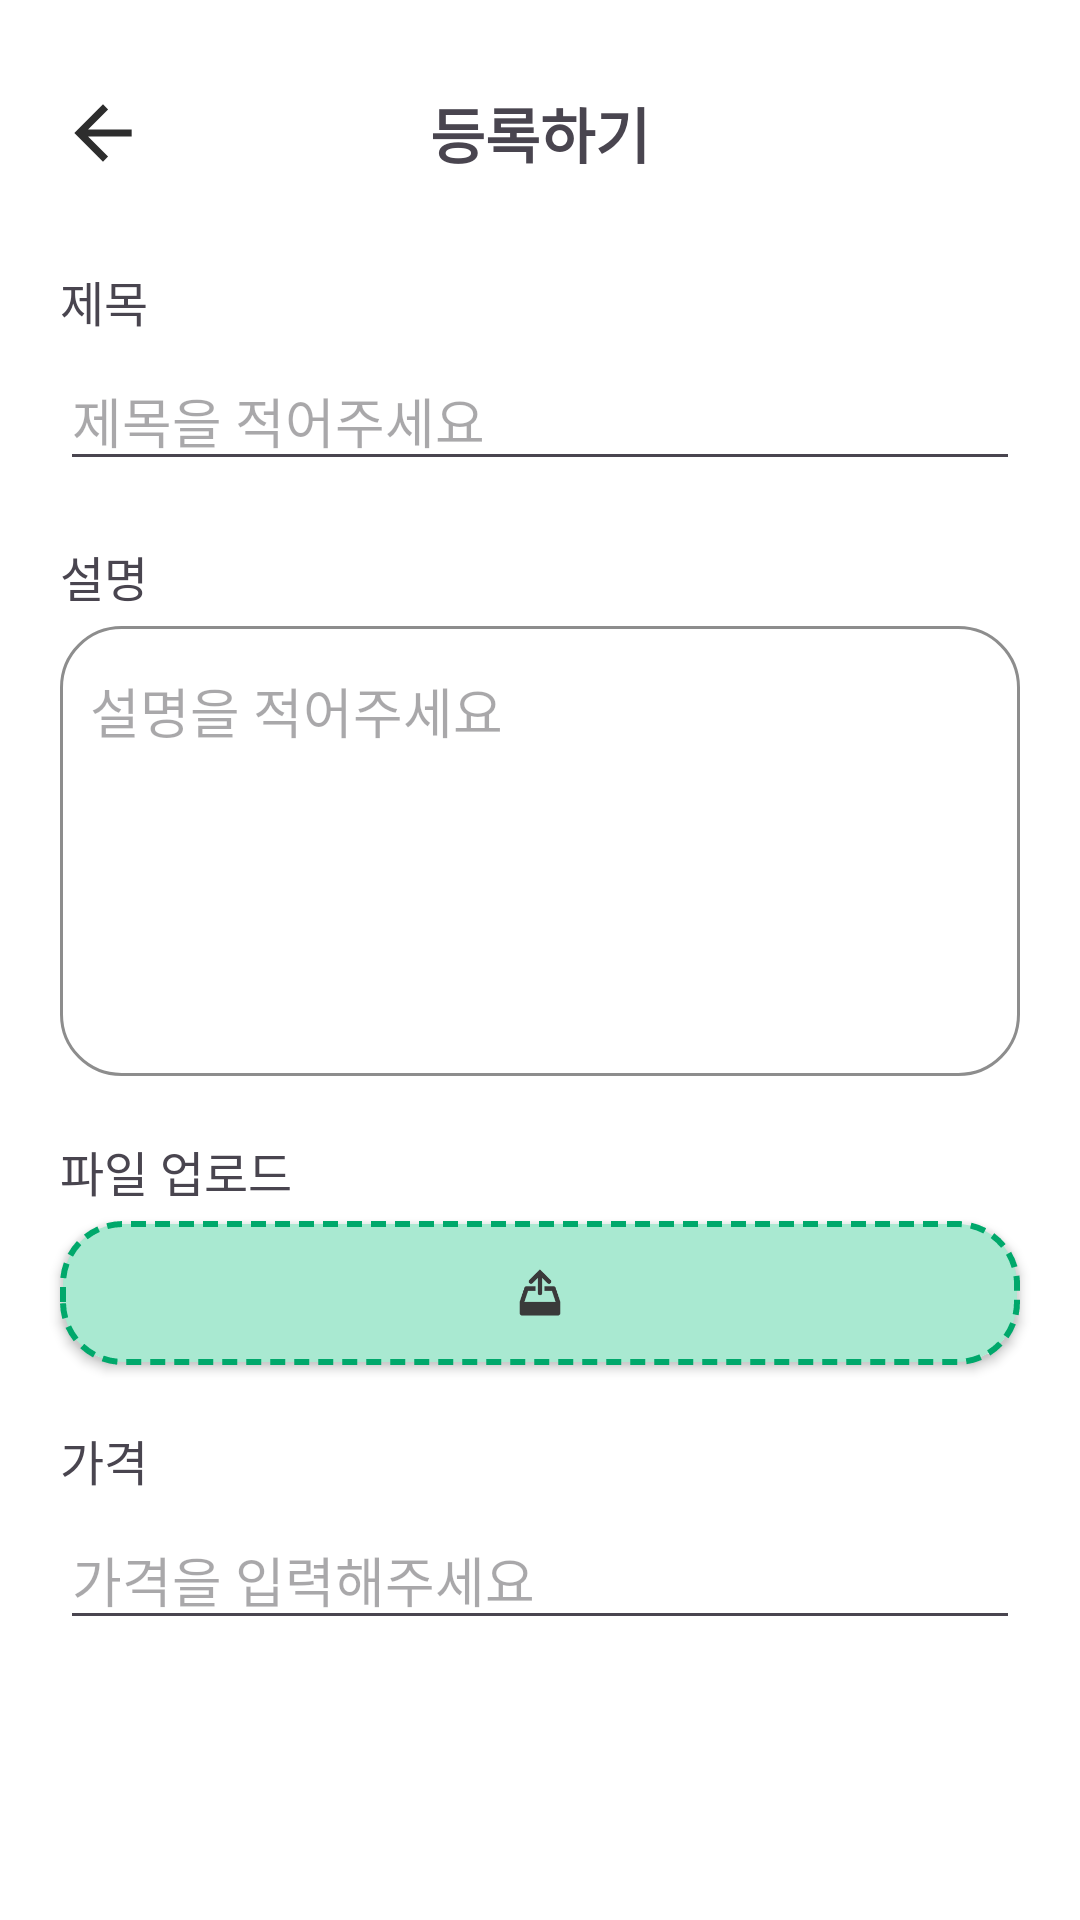

Screen size 1080w x 1920h. Icon name, then its center in pixels as [x,y]:
back: [103,133]
upload: [540,1292]
